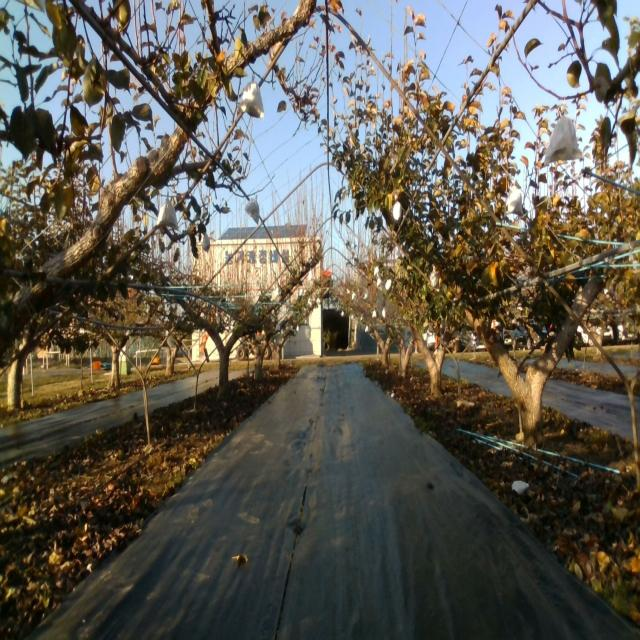pearbags: (546, 114, 580, 166), (240, 74, 264, 117), (156, 197, 178, 231), (245, 194, 260, 226), (507, 186, 523, 213), (391, 199, 403, 225)
